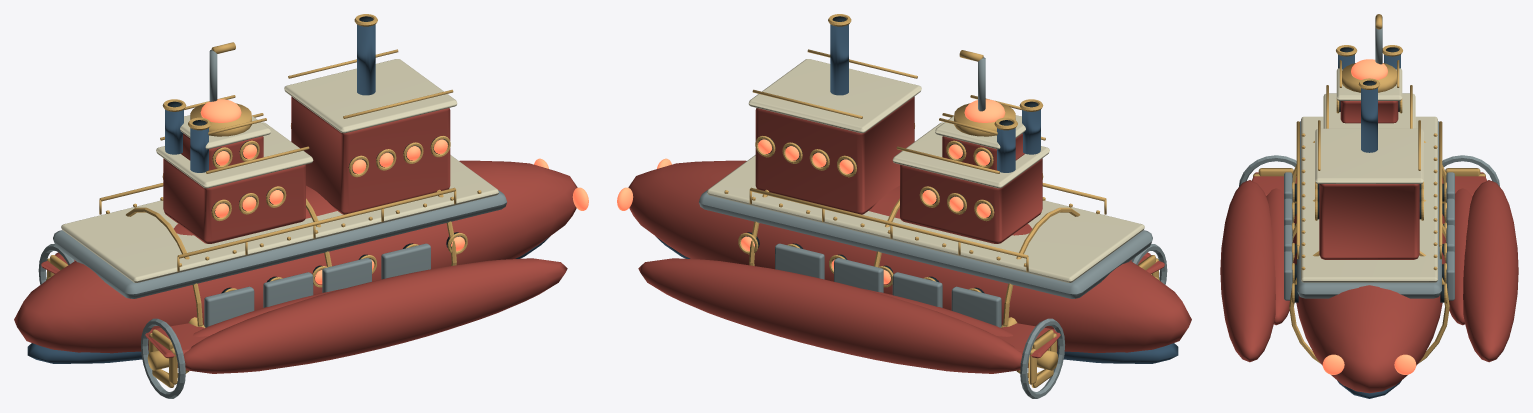
File: dreadnought.glb
3 renders of one model, left to right at view 1: azimuth 30°, elevation 25°; view 2: azimuth 150°, elevation 25°; view 3: azimuth 270°, elevation 25°, orthographic. The views are drawn at different scales.
Visible parts, largest first — view 1: dreadnought / Paint | antagonist rust red, dreadnought / Ceramic | warm ivory, dreadnought / Iron | weathered steel, dreadnought / Brass | machined champagne, dreadnought / Paint | Prussian blue, dreadnought / Lamp | coral red, dreadnought / Rubber | dark insets; view 2: dreadnought / Paint | antagonist rust red, dreadnought / Ceramic | warm ivory, dreadnought / Iron | weathered steel, dreadnought / Brass | machined champagne, dreadnought / Paint | Prussian blue, dreadnought / Lamp | coral red, dreadnought / Rubber | dark insets; view 3: dreadnought / Paint | antagonist rust red, dreadnought / Ceramic | warm ivory, dreadnought / Brass | machined champagne, dreadnought / Iron | weathered steel, dreadnought / Paint | Prussian blue, dreadnought / Lamp | coral red, dreadnought / Rubber | dark insets.
Part boxes in pixels (box(x1,y1,x2,y2)): dreadnought / Paint | antagonist rust red: box(14, 96, 577, 373); dreadnought / Ceramic | warm ivory: box(61, 59, 498, 282); dreadnought / Iron | weathered steel: box(38, 49, 507, 398); dreadnought / Brass | machined champagne: box(46, 14, 481, 387); dreadnought / Paint | Prussian blue: box(27, 24, 550, 363); dreadnought / Lamp | coral red: box(200, 99, 588, 284); dreadnought / Rubber | dark insets: box(167, 16, 463, 293); dreadnought / Paint | antagonist rust red: box(628, 96, 1191, 373); dreadnought / Ceramic | warm ivory: box(707, 59, 1144, 282); dreadnought / Iron | weathered steel: box(698, 57, 1167, 398); dreadnought / Brass | machined champagne: box(724, 14, 1159, 387); dreadnought / Paint | Prussian blue: box(655, 24, 1178, 363); dreadnought / Lamp | coral red: box(617, 99, 1005, 284); dreadnought / Rubber | dark insets: box(742, 16, 1038, 293); dreadnought / Paint | antagonist rust red: box(1220, 101, 1518, 393); dreadnought / Ceramic | warm ivory: box(1301, 68, 1437, 282); dreadnought / Brass | machined champagne: box(1253, 14, 1485, 363); dreadnought / Iron | weathered steel: box(1239, 17, 1499, 300); dreadnought / Paint | Prussian blue: box(1337, 54, 1401, 398); dreadnought / Lamp | coral red: box(1322, 59, 1416, 374); dreadnought / Rubber | dark insets: box(1294, 47, 1444, 302).
Bounding box in the file's own units: 12.4 × 6.46 × 6.24.
